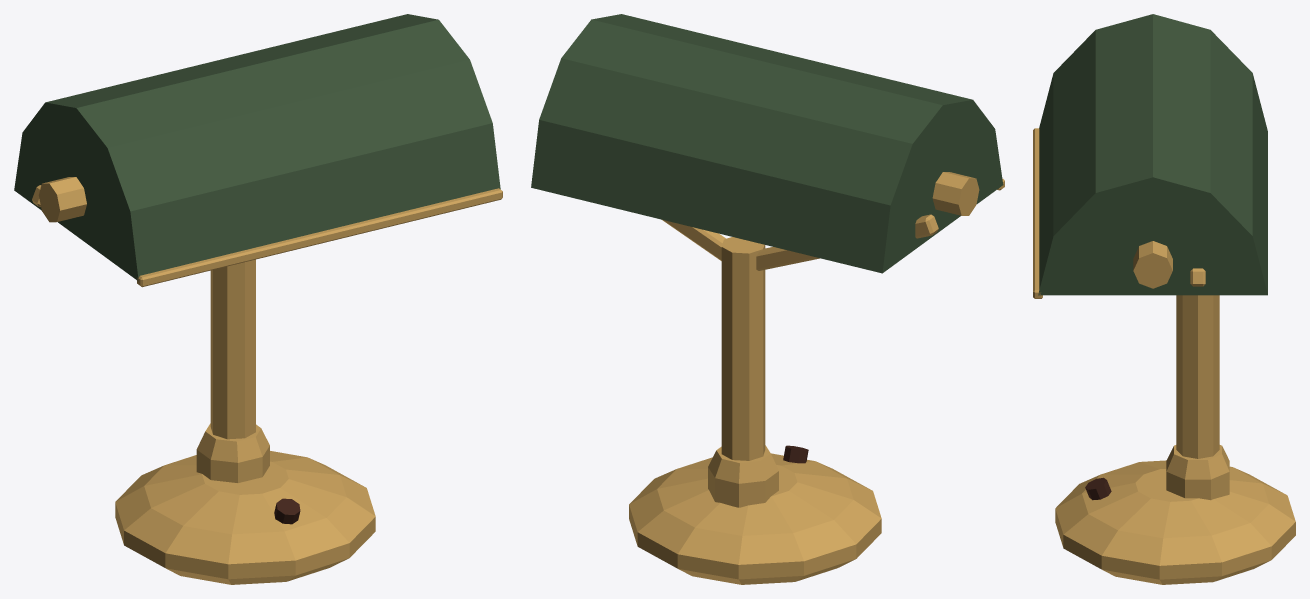
The model's file is banker_lamp_02.glb.
The picture shows the model from 3 angles, left to right: view 1: azimuth 30°, elevation 25°; view 2: azimuth 150°, elevation 25°; view 3: azimuth 270°, elevation 25°; orthographic projection. The views are drawn at different scales.
Visible parts, largest first — view 1: Green_shade, Base, Stem, Shade_front_rim, Stem_collar, Shade_pivot__1; view 2: Green_shade, Base, Stem, Stem_collar, Shade_pivot__1, Shade_support__1, Shade_support_1; view 3: Green_shade, Base, Stem, Stem_collar, Shade_pivot_1, Shade_front_rim, Switch.
Part boxes in pixels (x1,y1,x2,y2): Green_shade: [14, 14, 500, 281]; Base: [115, 451, 375, 584]; Stem: [210, 259, 255, 439]; Shade_front_rim: [137, 188, 502, 287]; Stem_collar: [196, 423, 269, 482]; Shade_pivot__1: [38, 177, 86, 222]; Green_shade: [531, 14, 1003, 273]; Base: [629, 453, 881, 584]; Stem: [721, 237, 765, 460]; Stem_collar: [708, 445, 778, 507]; Shade_pivot__1: [932, 172, 979, 215]; Shade_support__1: [756, 214, 938, 270]; Shade_support_1: [662, 219, 725, 260]; Green_shade: [1038, 14, 1267, 295]; Base: [1055, 460, 1295, 584]; Stem: [1176, 295, 1219, 458]; Stem_collar: [1166, 445, 1229, 500]; Shade_pivot_1: [1133, 241, 1172, 288]; Shade_front_rim: [1033, 128, 1042, 298]; Switch: [1085, 477, 1111, 500].
Bounding box in the file's own units: 0.494 × 0.55 × 0.2923.
